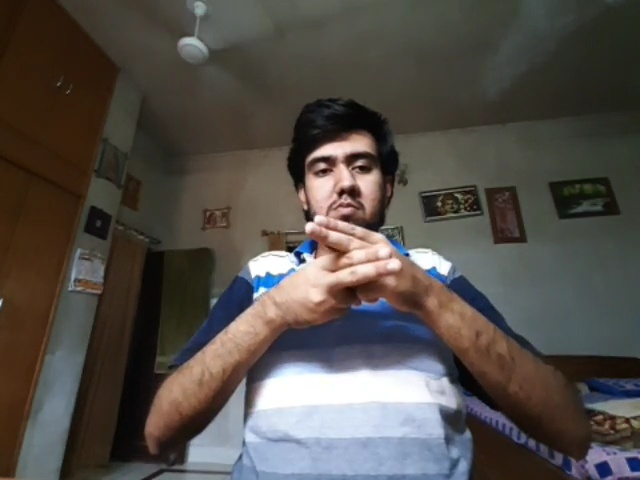Name: (284, 215, 420, 328)
